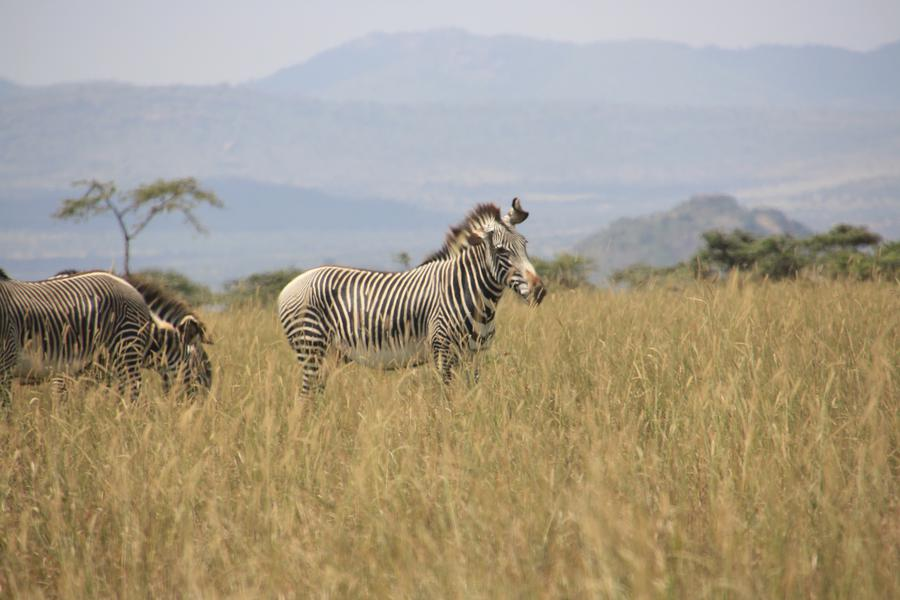zebra_grevys: (272, 260, 476, 345)
